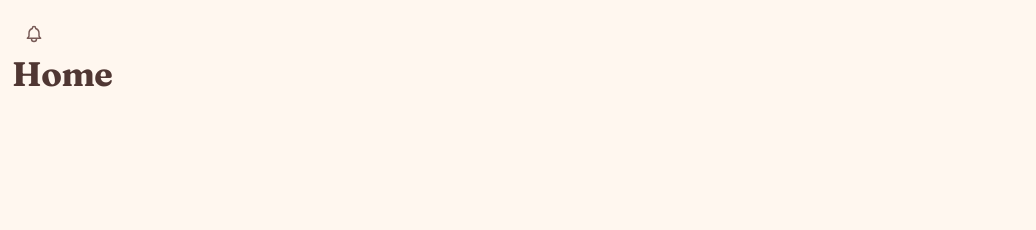
Test: PetParentNotificationPopover › says it is loading until the first list arrives
The image size is (1036, 230).
Click the button named "Open notifications": (34, 34) [12,12,56,56]
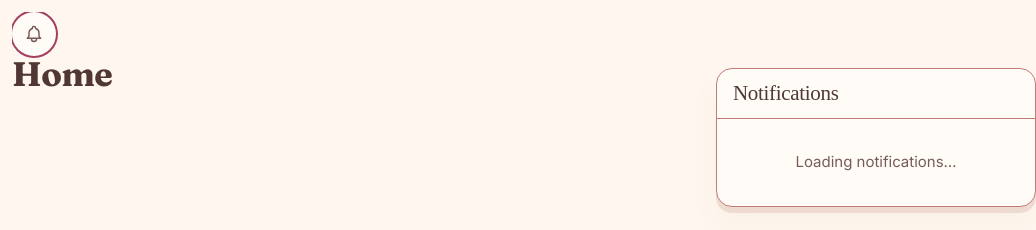
Check: the message reads "Loading notifications…", box [795,152,956,171]
